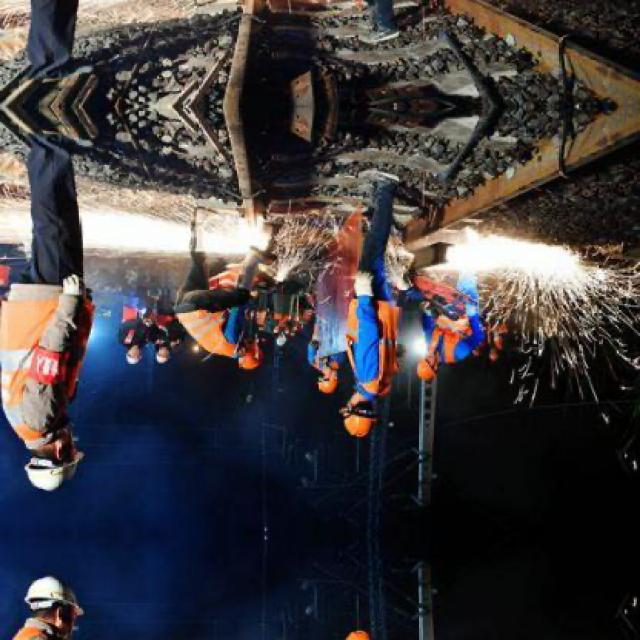con casco: (0, 397, 111, 522), (324, 362, 401, 458), (211, 317, 295, 383)
